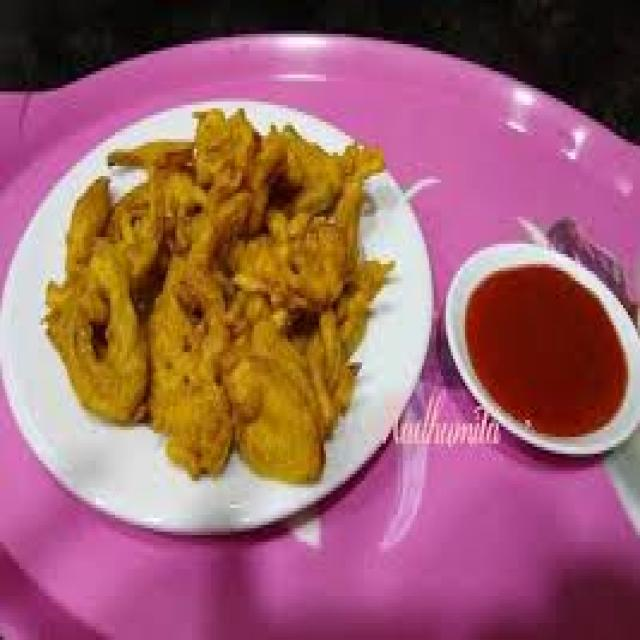BAJI: (37, 99, 397, 482)
